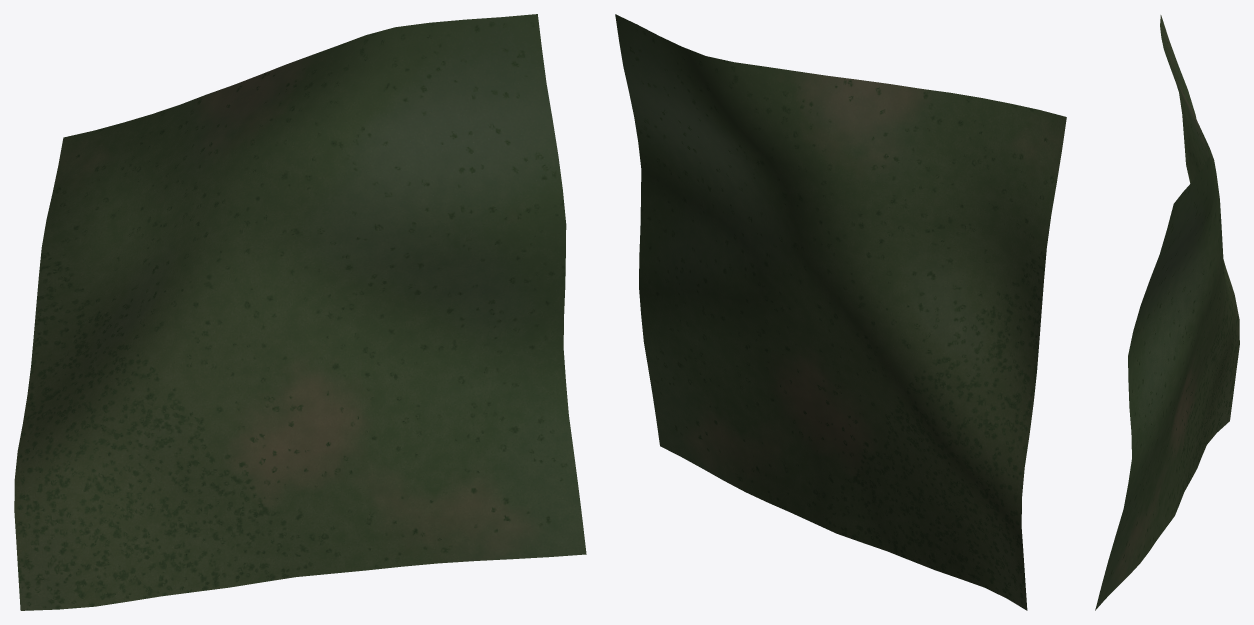
The model's file is terrain_mid_07_06.obj.
The picture shows the model from 3 angles, left to right: view 1: azimuth 30°, elevation 25°; view 2: azimuth 150°, elevation 25°; view 3: azimuth 270°, elevation 25°; orthographic projection. The views are drawn at different scales.
Visible parts, largest first — view 1: terrain_mid_07_06; view 2: terrain_mid_07_06; view 3: terrain_mid_07_06.
Boxes of the visible parts, x1,y1,x2,y2 form: terrain_mid_07_06: (14, 14, 586, 610); terrain_mid_07_06: (615, 14, 1066, 610); terrain_mid_07_06: (1095, 15, 1239, 610).
Size of the model in its own units: 320 by 320 by 103.
Materials: 1 (1 with a texture image).
